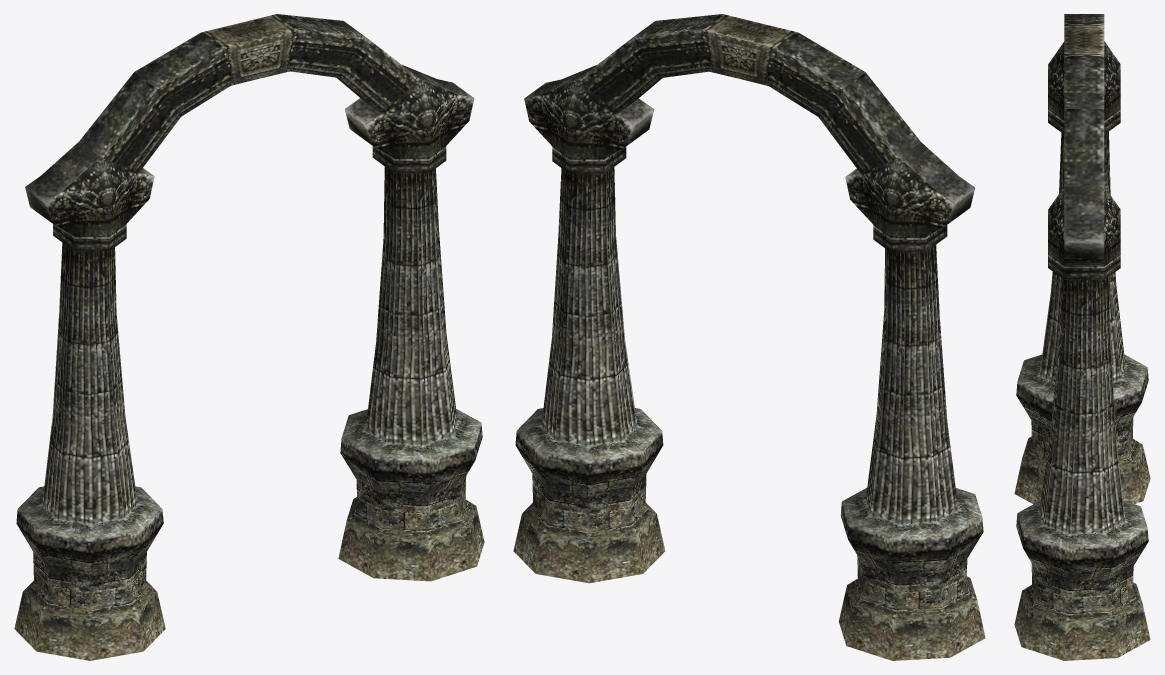
The model's file is OZ_06_mi_relic02A.glb.
3 views of the same model, side by side, from view 1: azimuth 30°, elevation 25°; view 2: azimuth 150°, elevation 25°; view 3: azimuth 270°, elevation 25° (orthographic). The views are drawn at different scales.
Visible parts, largest first — view 1: OM_06_mi_relic02A; view 2: OM_06_mi_relic02A; view 3: OM_06_mi_relic02A.
Part boxes in pixels (x1,y1,x2,y2): OM_06_mi_relic02A: [14, 14, 484, 660]; OM_06_mi_relic02A: [513, 14, 985, 660]; OM_06_mi_relic02A: [1014, 14, 1150, 660].
Bounding box in the file's own units: 10.28 × 12.23 × 2.9.
Materials: 1 (1 with a texture image).
